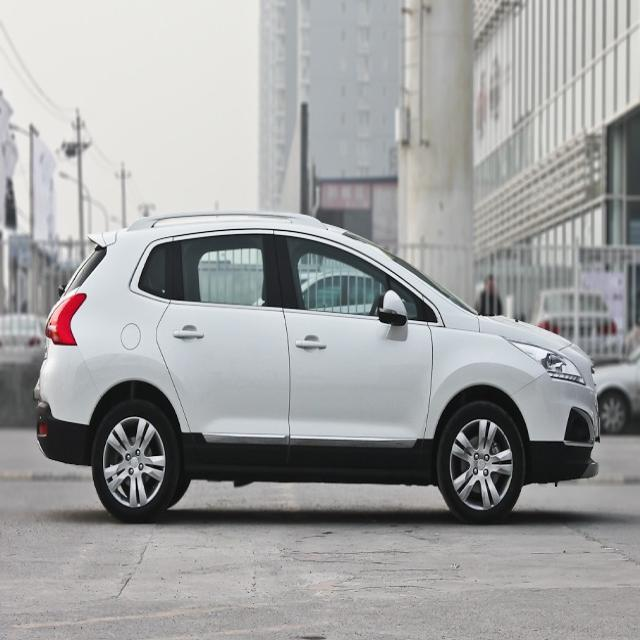back_right_side_light: (44, 292, 94, 348)
door: (133, 236, 295, 464)
front_bumper: (510, 344, 600, 484)
front_right_side_door: (272, 226, 434, 475)
front_right_side_mirror: (506, 336, 585, 386), (379, 288, 409, 329)
rear_bumper: (36, 342, 101, 465)
wheel: (440, 400, 522, 519), (97, 400, 176, 520)
